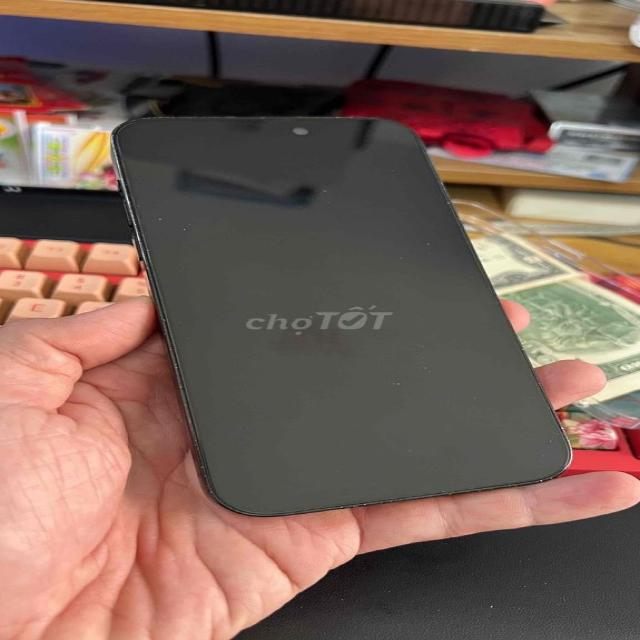gen_14: (89, 112, 592, 528)
